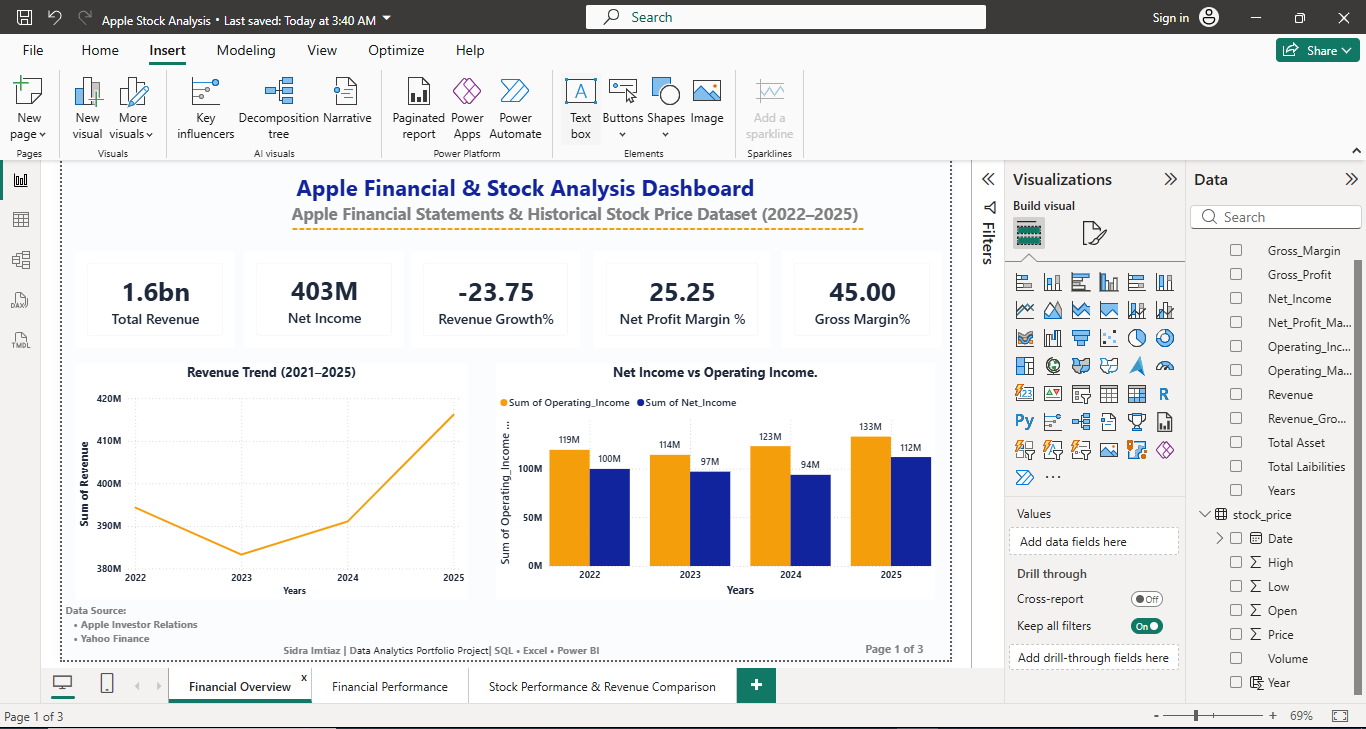

The page's visual inventory and layout, read from the dashboard file:
{"tool":"powerbi","page":{"name":"Financial Overview","canvas":[1280,720],"ordinal":0},"visuals":[{"type":"cardVisual","fields":{"Data":["Sum(finances.Revenue)"]},"box":[18.5,131,230.1,139.4],"z":0},{"type":"cardVisual","fields":{"Data":["Sum(finances.Net_Income)"]},"box":[262,131,230.1,139.4],"z":1000},{"type":"cardVisual","fields":{"Data":["Avg(finances.Reveneu_Growth )"]},"box":[502.3,131,243.6,139.4],"z":2000},{"type":"cardVisual","fields":{"Data":["Avg(finances.Net_Profit_Margin)"]},"box":[766,131,253.6,139.4],"z":3000},{"type":"cardVisual","fields":{"Data":["Avg(finances.Gross_Margin)"]},"box":[1036.4,131,230.1,139.4],"z":4000},{"type":"lineChart","title":"Revenue Trend (2021–2025)","fields":{"Category":["finances.Years"],"Y":["Sum(finances.Revenue)"]},"box":[18.5,292.3,566.1,341],"z":5000},{"type":"clusteredColumnChart","title":"Net Income vs Operating Income.","fields":{"Category":["finances.Years"],"Y":["Sum(finances.Operating_Income )","Sum(finances.Net_Income)"]},"box":[624.9,292.3,631.6,341],"z":6000},{"type":"textbox","box":[315.8,11.8,703.8,65.5],"z":7000},{"type":"textbox","box":[325.9,55.4,838.2,43.7],"z":8000},{"type":"textbox","box":[325.9,73.9,838.2,48.7],"z":9000},{"type":"textbox","box":[314.1,690.4,539.2,30.2],"z":10000},{"type":"textbox","box":[0,616.5,262,104.1],"z":11000},{"type":"textbox","box":[1152,688.3,100.8,31.7],"z":12000}]}

Visuals, with their boxes on the page's 1280x720 design canvas (x1, y1, x2, y2). These are canvas units, not pixel positions in the 1366x729 screenshot, which may show the page scaled, cropped or inside an application window:
cardVisual - Sum(finances.Revenue): (x1=18, y1=131, x2=249, y2=270)
cardVisual - Sum(finances.Net_Income): (x1=262, y1=131, x2=492, y2=270)
cardVisual - Avg(finances.Reveneu_Growth ): (x1=502, y1=131, x2=746, y2=270)
cardVisual - Avg(finances.Net_Profit_Margin): (x1=766, y1=131, x2=1020, y2=270)
cardVisual - Avg(finances.Gross_Margin): (x1=1036, y1=131, x2=1266, y2=270)
"Revenue Trend (2021–2025)" lineChart: (x1=18, y1=292, x2=585, y2=633)
"Net Income vs Operating Income." clusteredColumnChart: (x1=625, y1=292, x2=1256, y2=633)
textbox: (x1=316, y1=12, x2=1020, y2=77)
textbox: (x1=326, y1=55, x2=1164, y2=99)
textbox: (x1=326, y1=74, x2=1164, y2=123)
textbox: (x1=314, y1=690, x2=853, y2=721)
textbox: (x1=0, y1=616, x2=262, y2=721)
textbox: (x1=1152, y1=688, x2=1253, y2=720)
